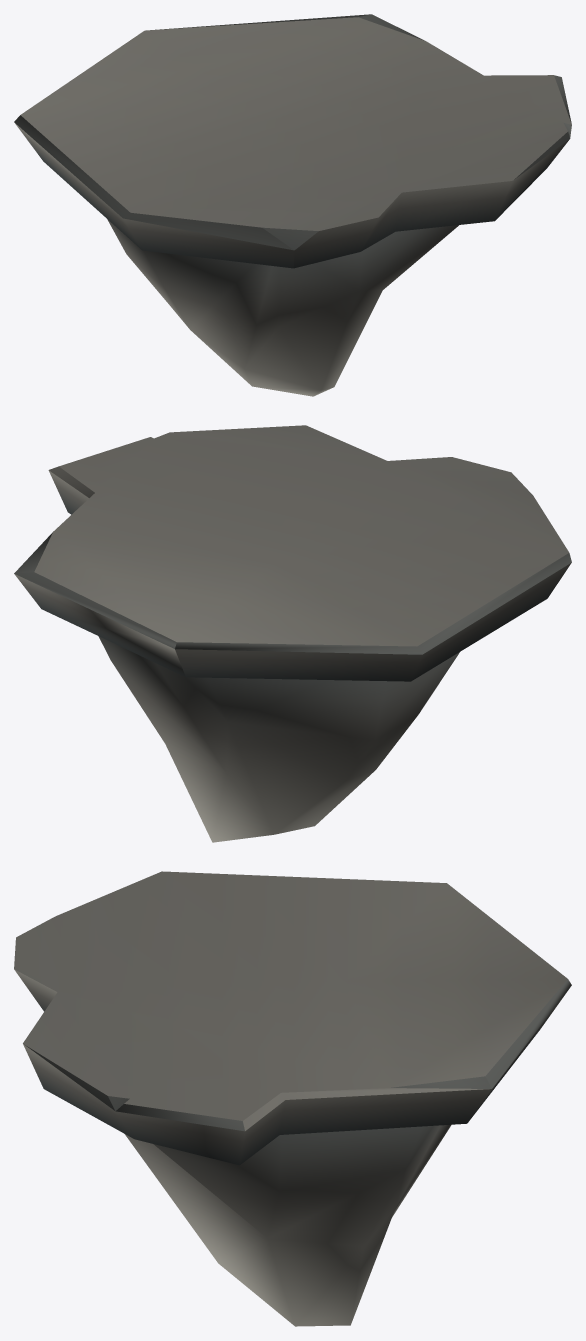
Rendered from Small_Isle.fbx.
3 renders of one model, top to bottom at view 1: azimuth 30°, elevation 25°; view 2: azimuth 150°, elevation 25°; view 3: azimuth 270°, elevation 25°, orthographic. The views are drawn at different scales.
Visible parts, largest first — view 1: floe.015; view 2: floe.015; view 3: floe.015.
Part boxes in pixels (x1=…): floe.015: x1=14, y1=14, x2=571, y2=396; floe.015: x1=14, y1=425, x2=571, y2=842; floe.015: x1=14, y1=871, x2=571, y2=1326.
Bounding box in the file's own units: 698 × 402 × 644.
